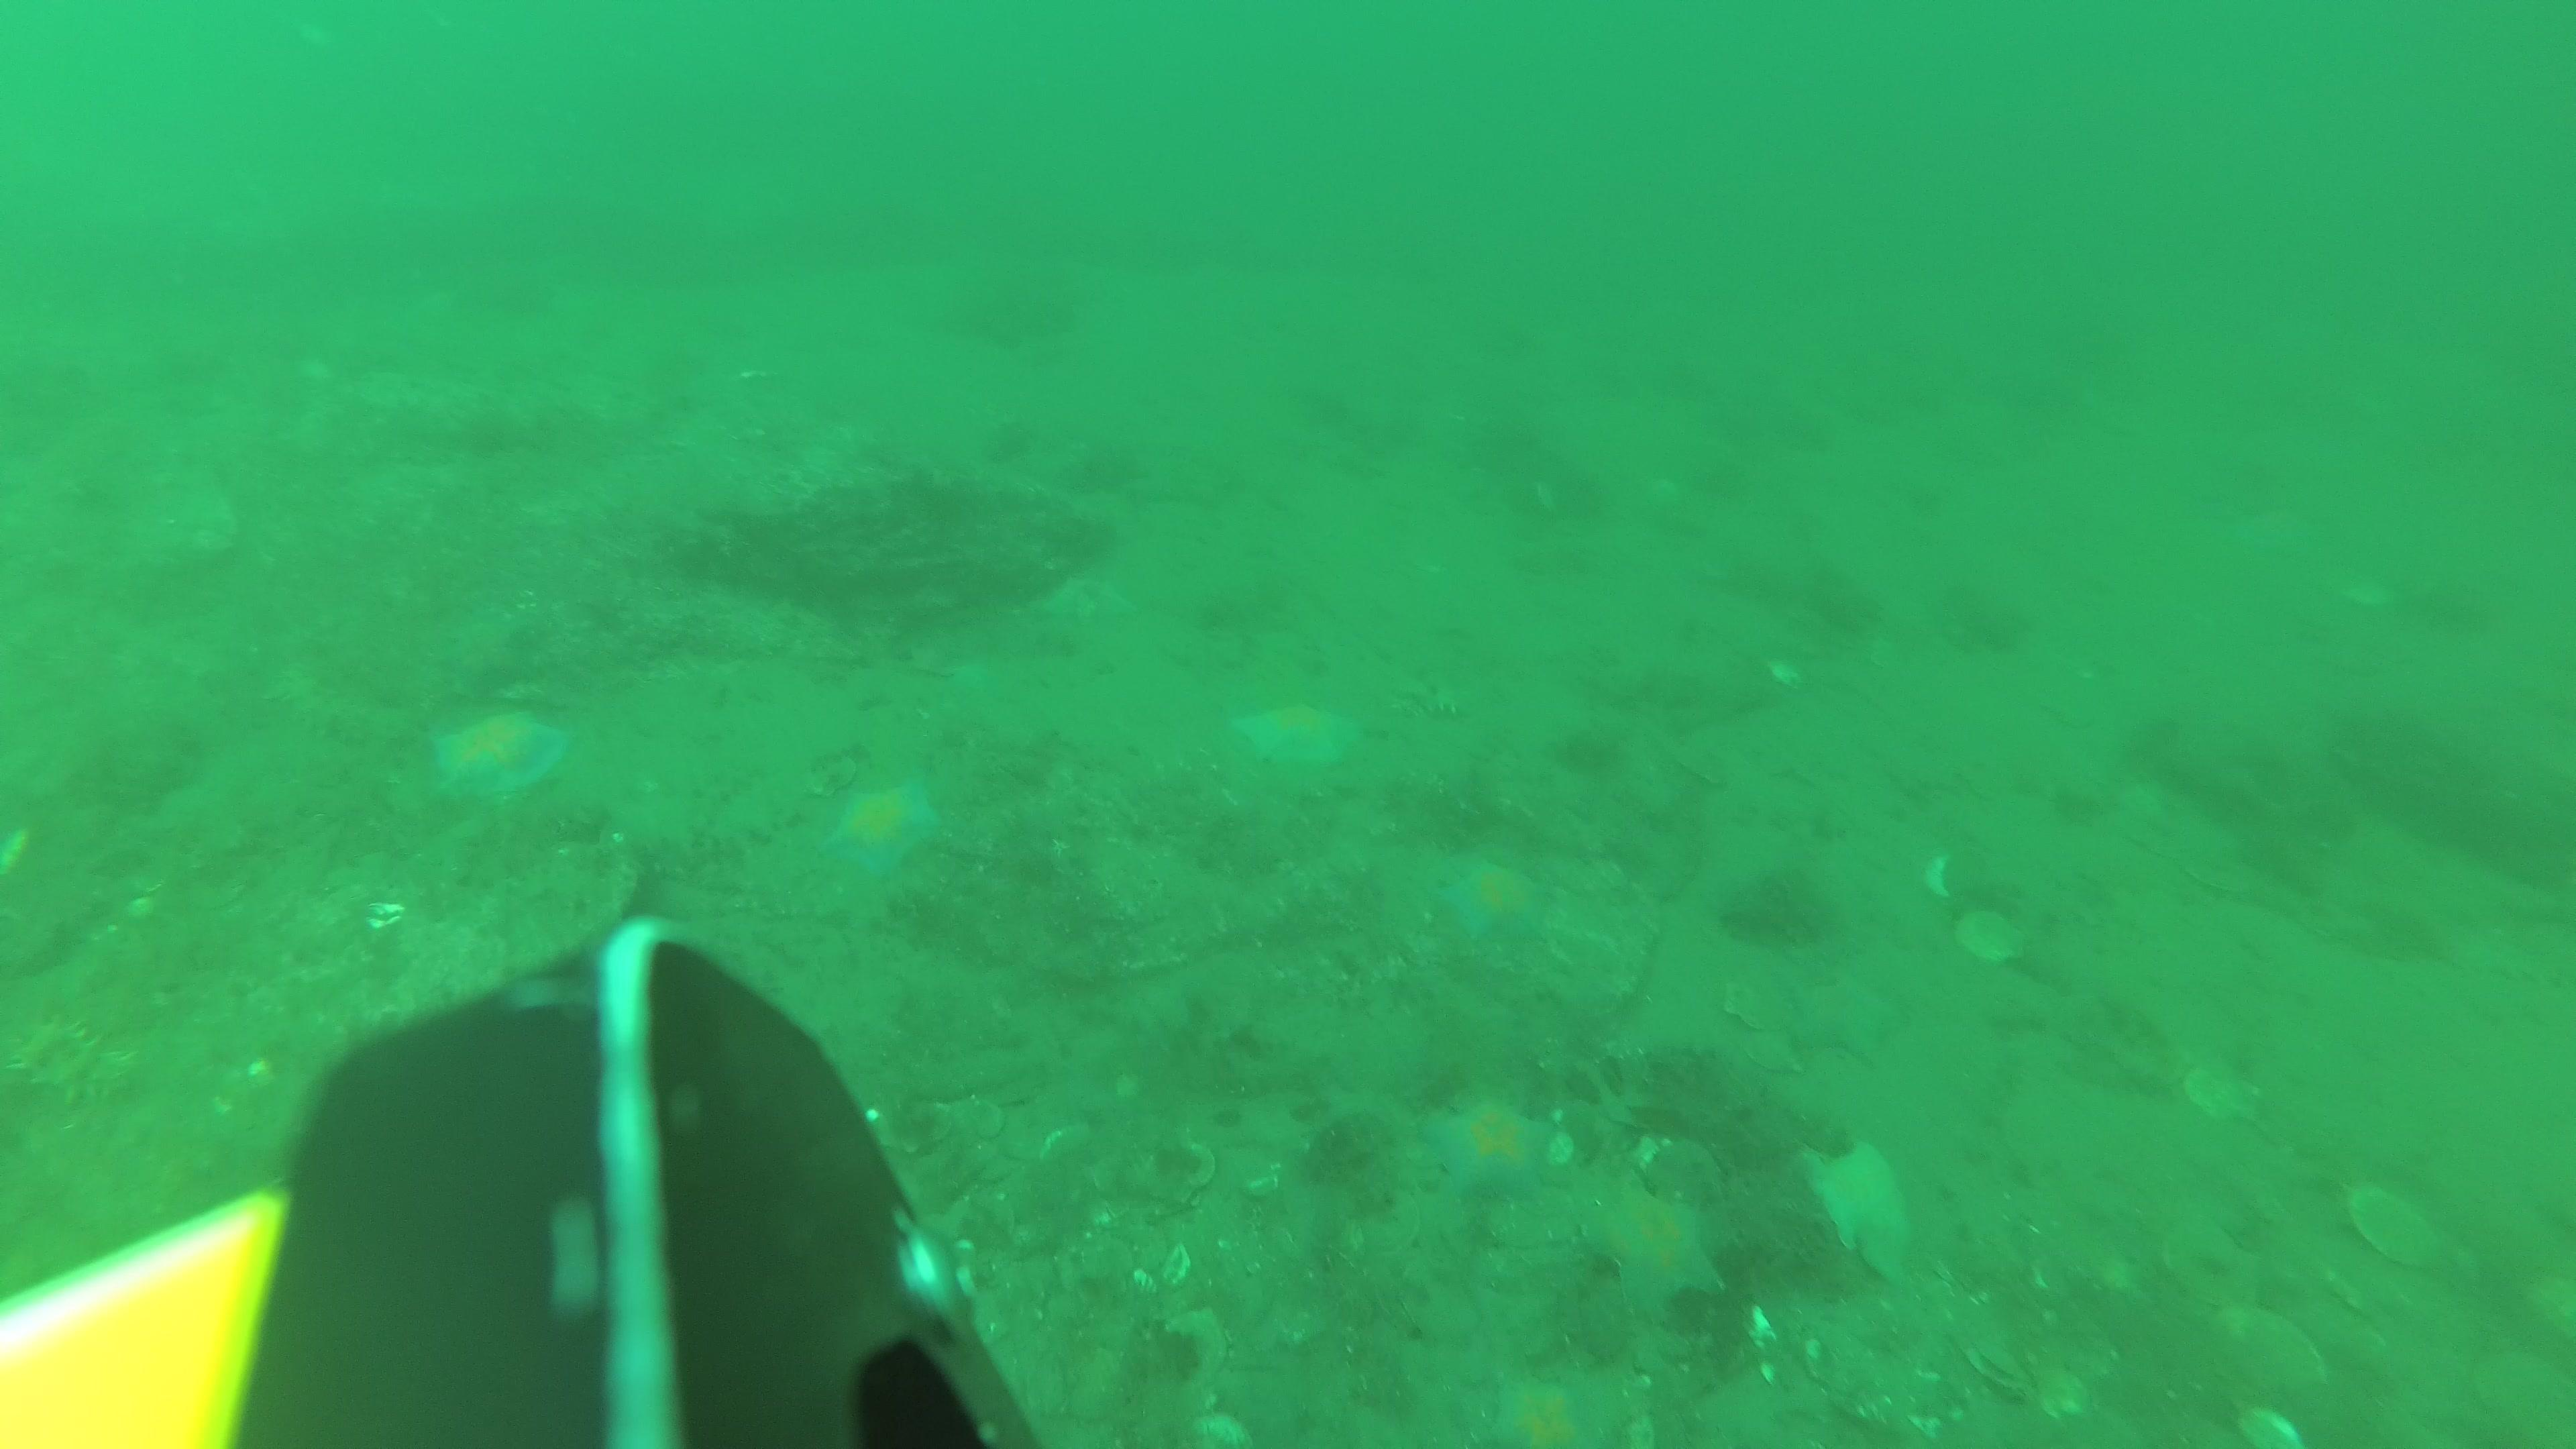scallop: (2351, 1175, 2442, 1265), (2185, 1053, 2265, 1125), (1141, 1141, 1215, 1205), (1957, 902, 2022, 966)
starfish: (1587, 1189, 1727, 1311), (1428, 1095, 1550, 1205), (430, 711, 568, 800), (828, 777, 938, 876), (1438, 855, 1546, 941), (1237, 697, 1359, 770), (1486, 1376, 1599, 1449)
